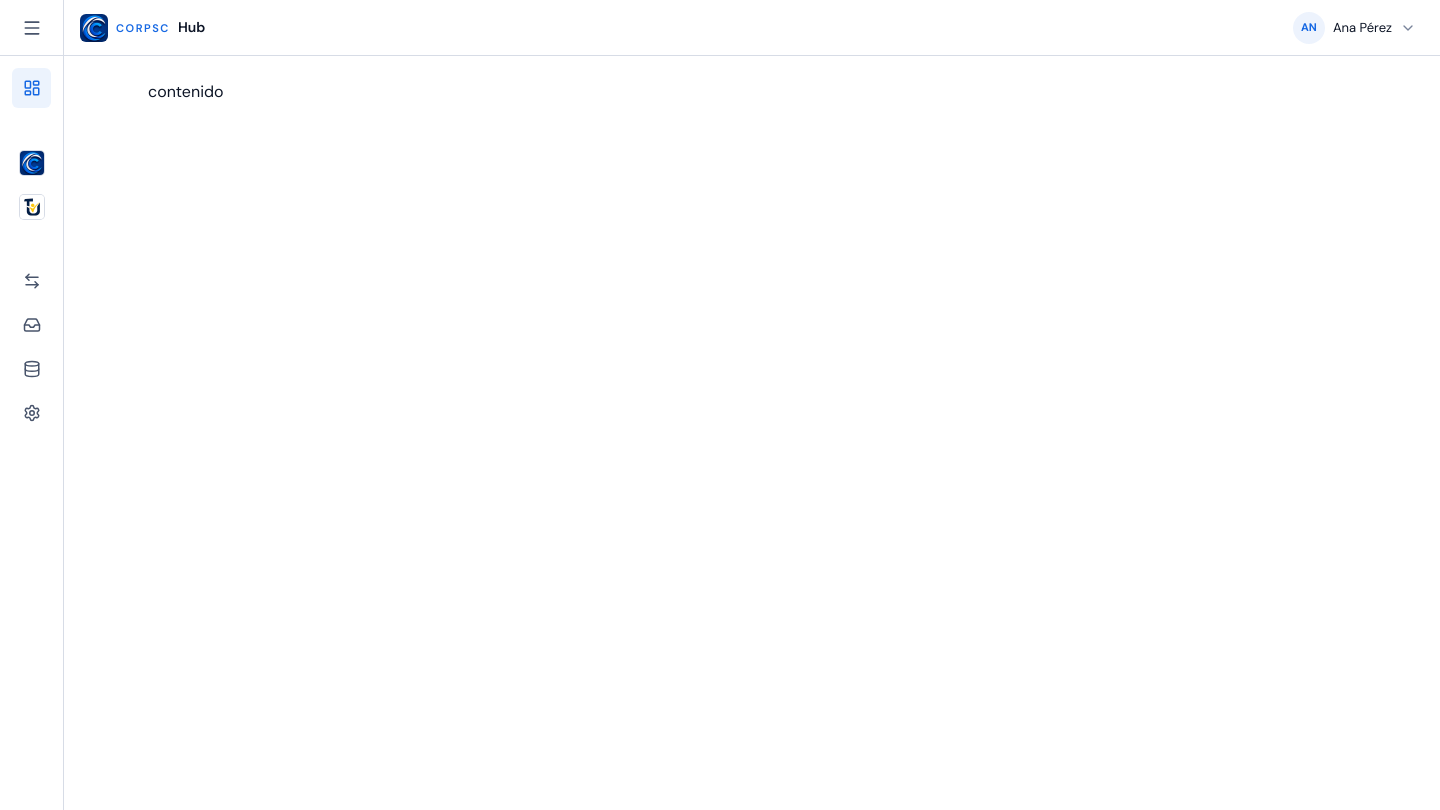
Test: AppDrawer › pins open with ☰ and closes with Escape
Click the button named "Abrir el menú": (32, 28) [12, 8, 52, 48]
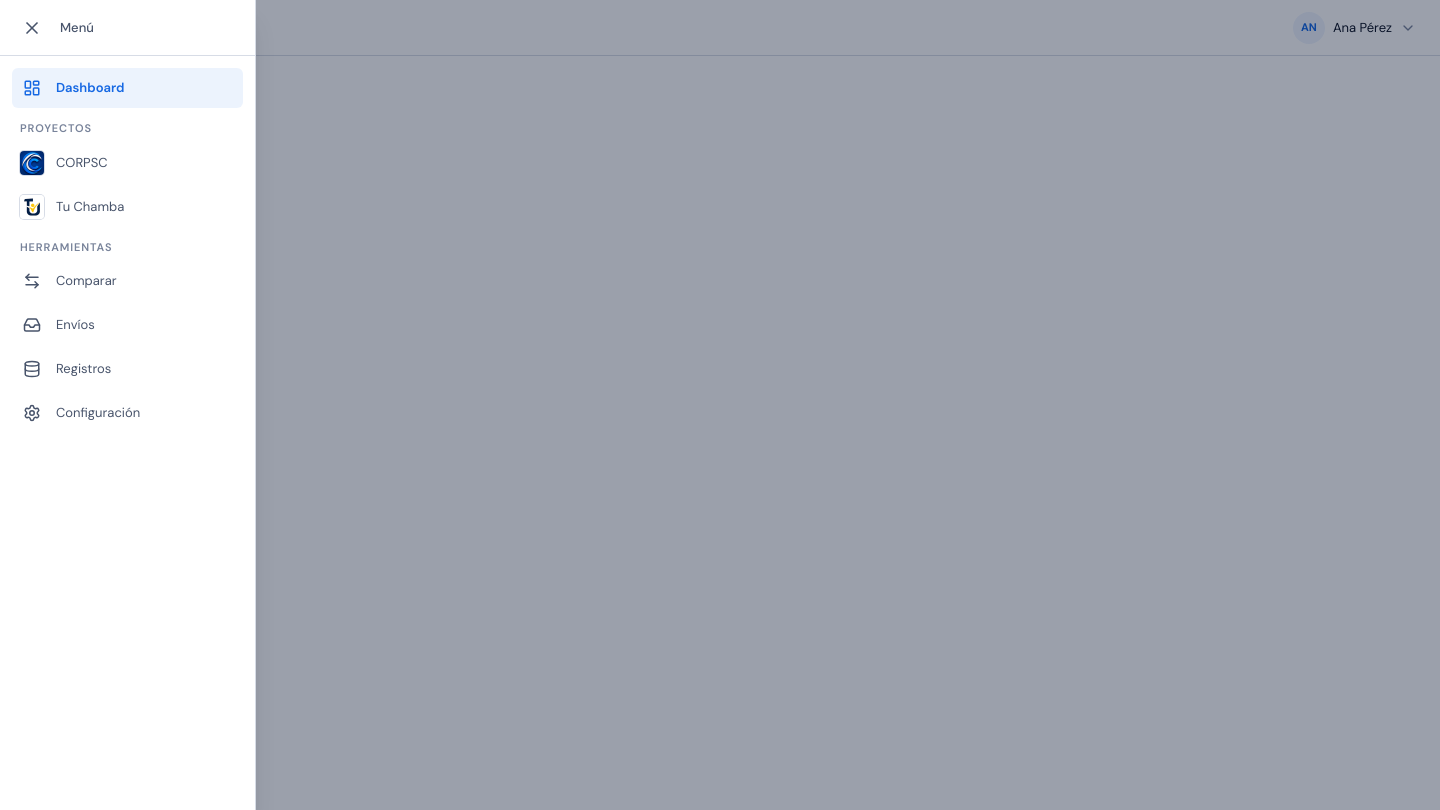
expect the button is expanded: met, box [12, 8, 52, 48]
Press Escape
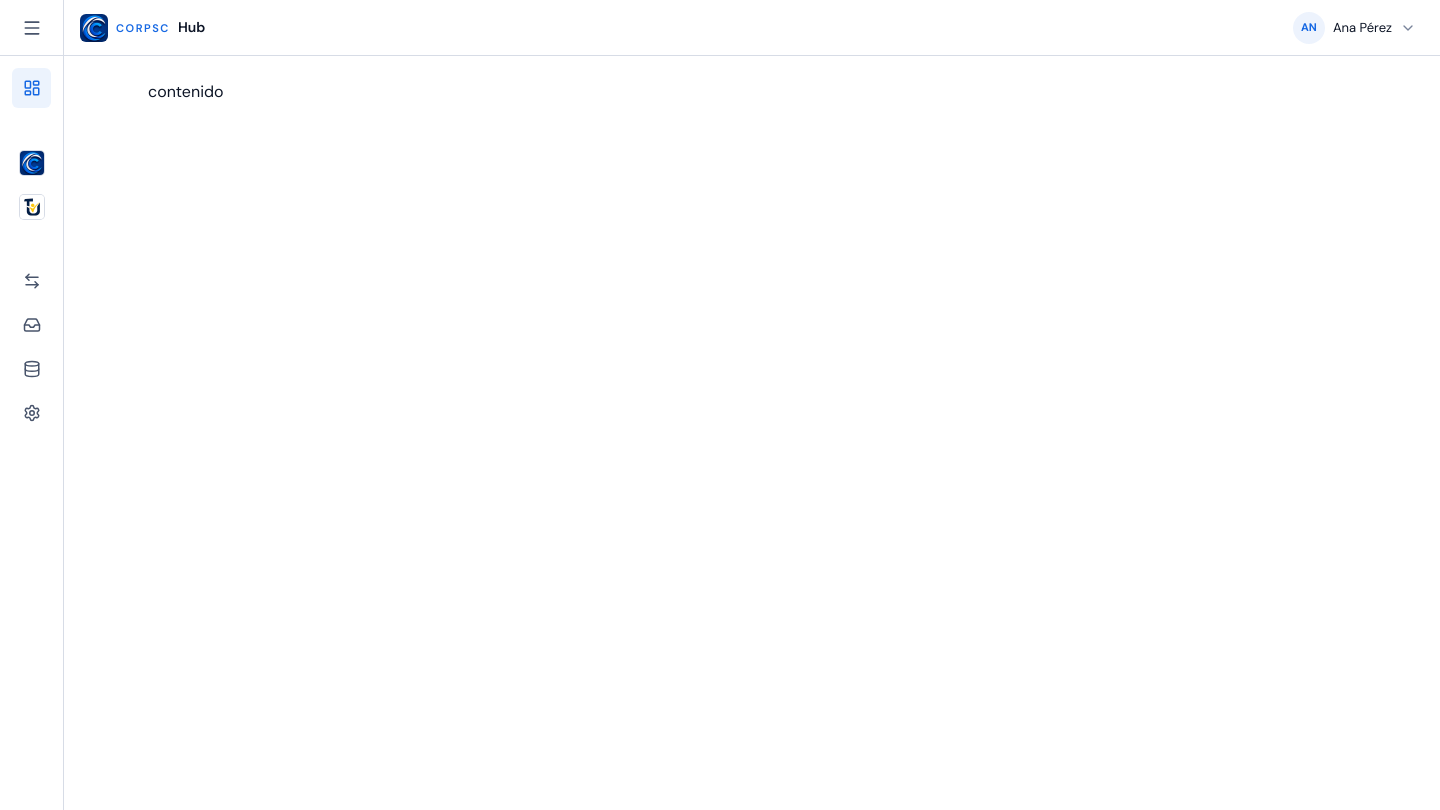
expect the button named "Abrir el menú" is collapsed: met, box [12, 8, 52, 48]
